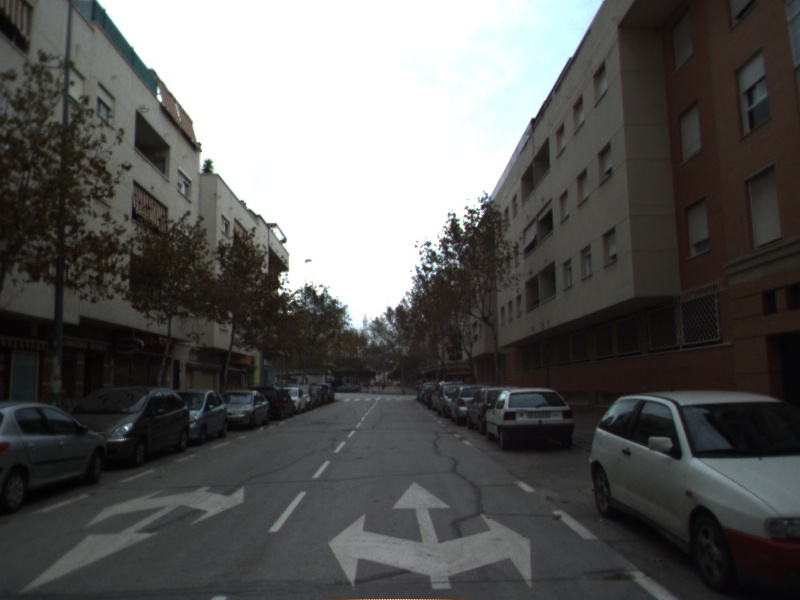STRAIGHT_LEFT_RIGHT: (325, 478, 536, 592)
